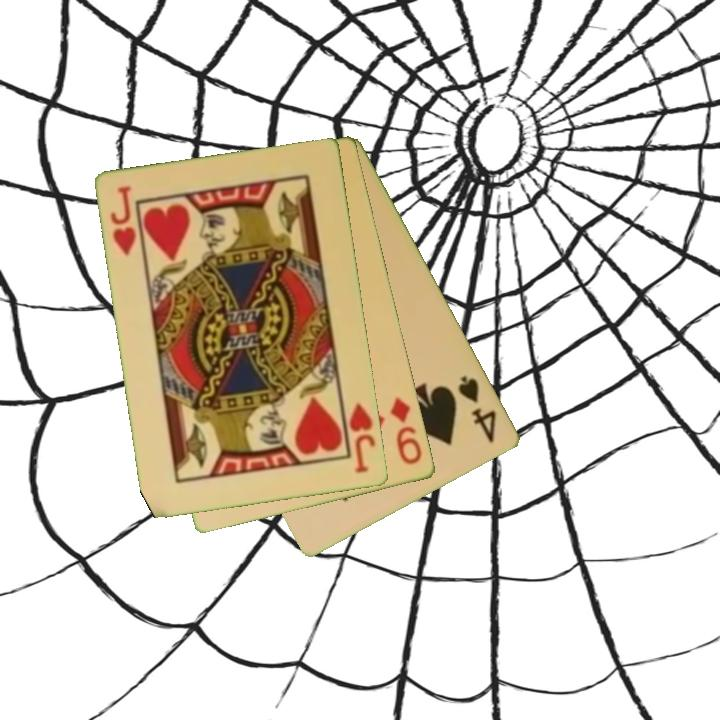4s: (455, 372, 500, 446)
9d: (387, 394, 426, 468)
Jh: (339, 396, 379, 477), (107, 183, 140, 258)
